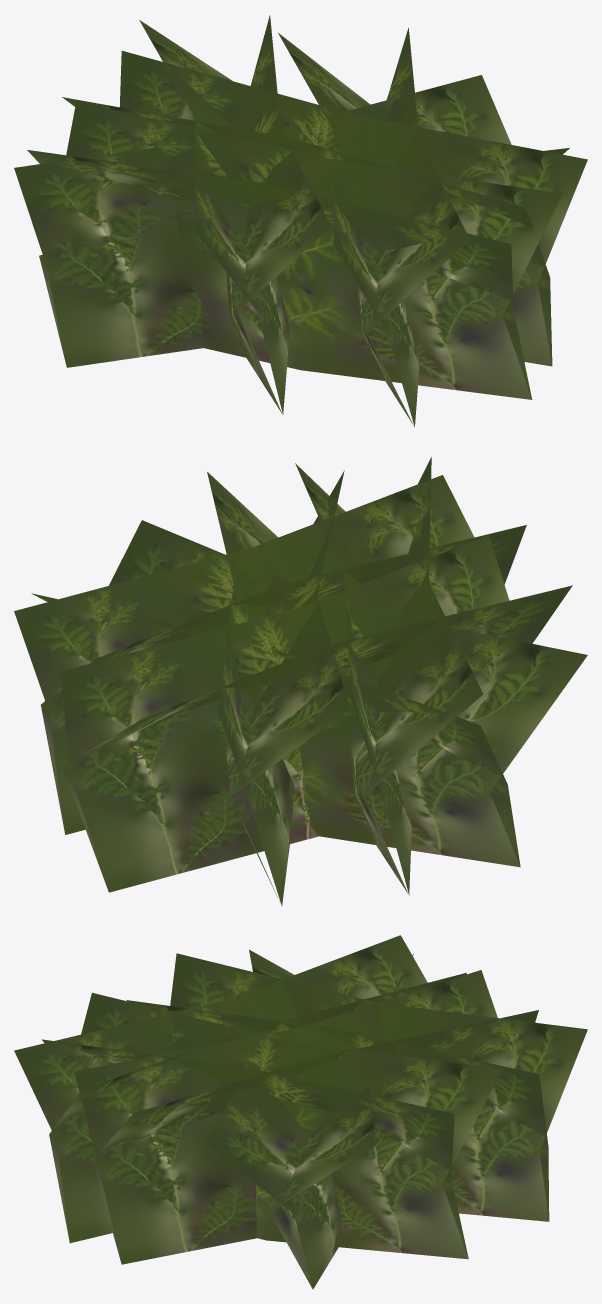
Rendered from SM_Ground_Cover_01a.fbx.
3 renders of one model, top to bottom at view 1: azimuth 30°, elevation 25°; view 2: azimuth 150°, elevation 25°; view 3: azimuth 270°, elevation 25°, orthographic. The views are drawn at different scales.
Visible parts, largest first — view 1: SM_Ground_Cover_01a_LOD0; view 2: SM_Ground_Cover_01a_LOD0; view 3: SM_Ground_Cover_01a_LOD0.
Boxes of the visible parts, x1,y1,x2,y2 form: SM_Ground_Cover_01a_LOD0: (14, 15, 587, 427); SM_Ground_Cover_01a_LOD0: (14, 457, 587, 905); SM_Ground_Cover_01a_LOD0: (14, 935, 587, 1289).
Bounding box in the file's own units: 178 × 219 × 71.7.
